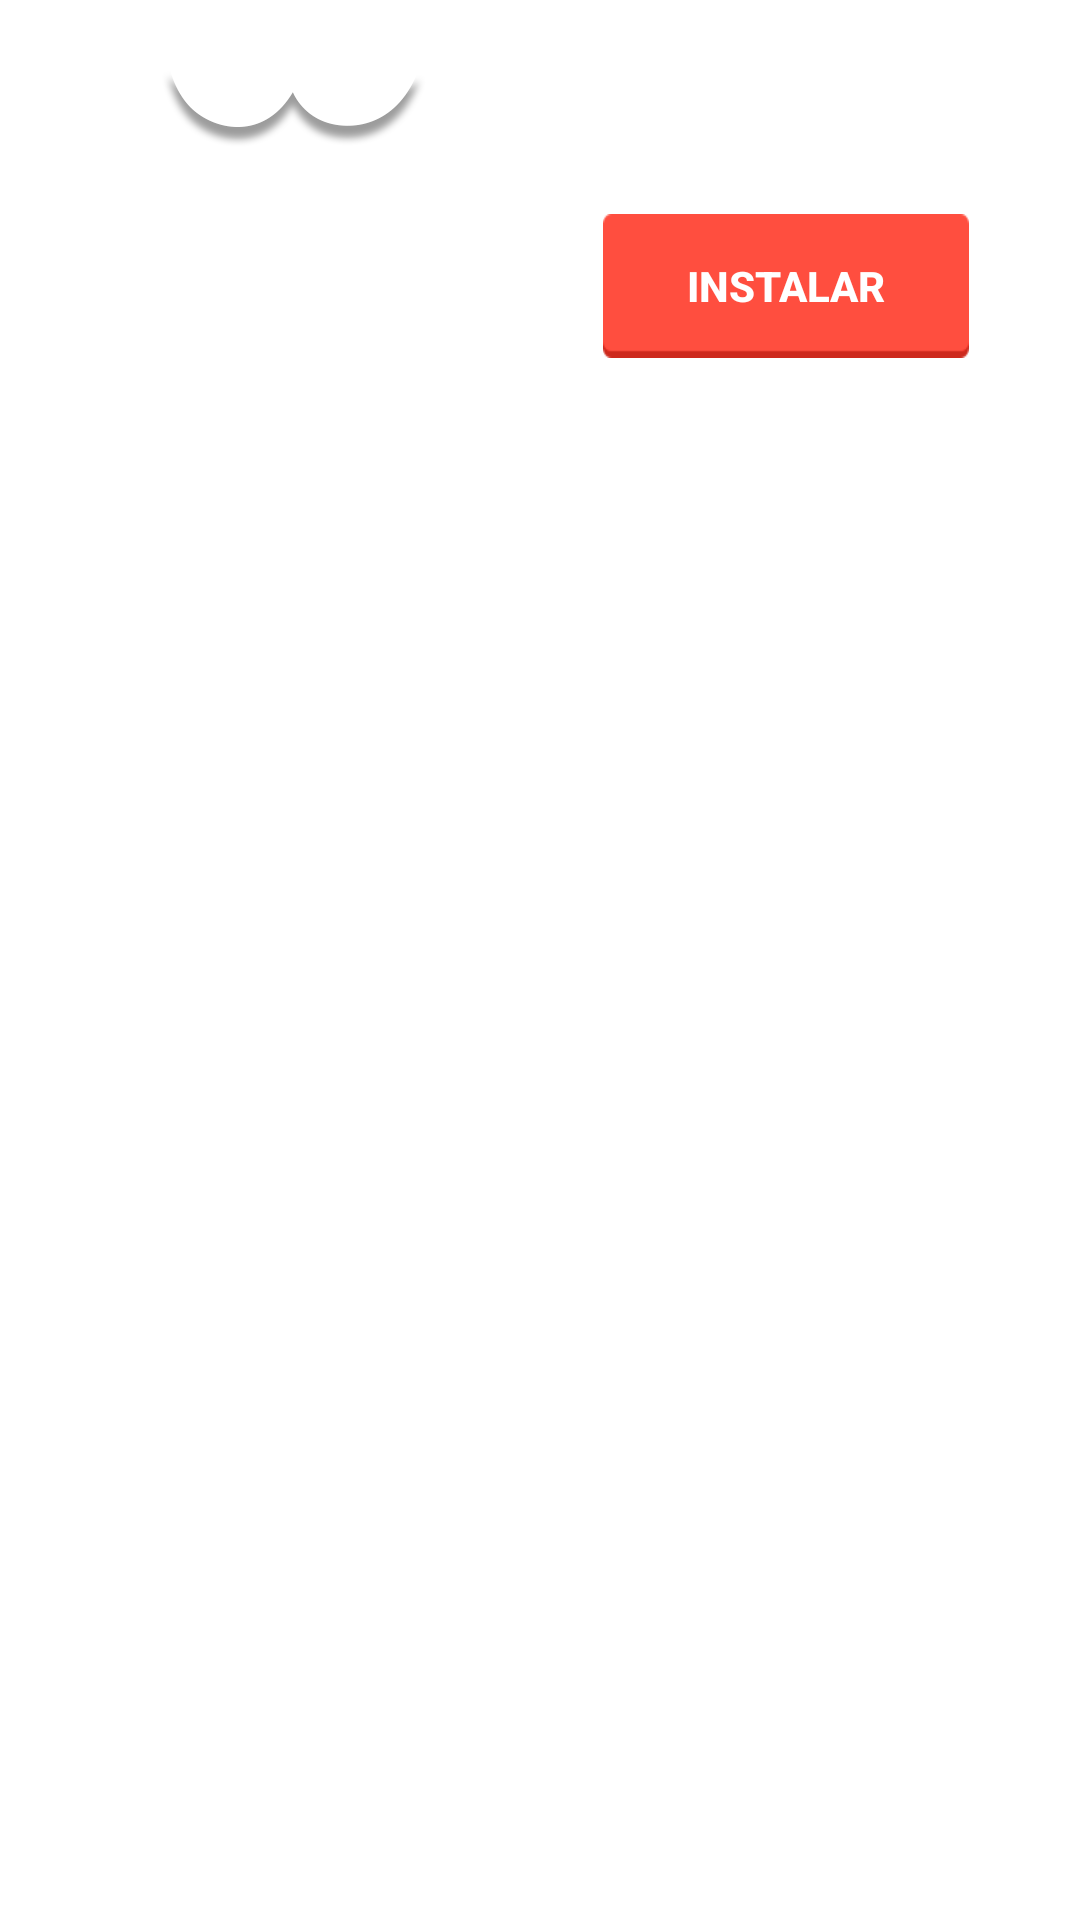

Icon bounding boxes for this 1080w x 1920h phone screenshot, format (x1, y1, x2, y2):
mostachin: (169, 80, 418, 142)
